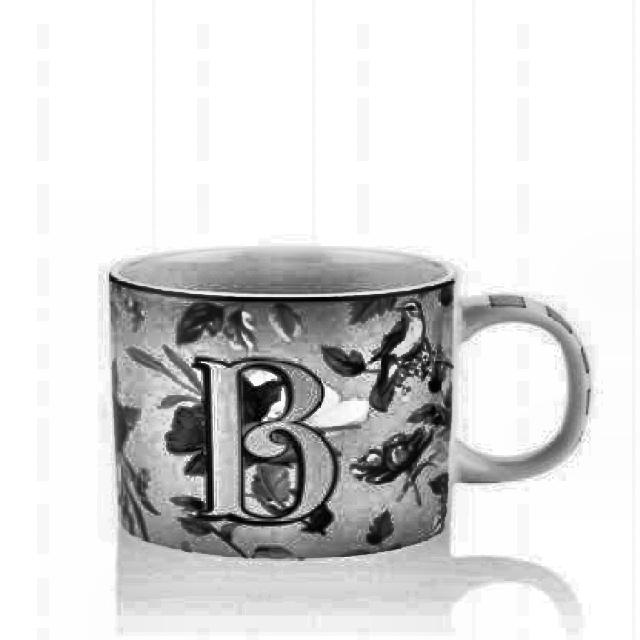Mug: (103, 242, 595, 562)
